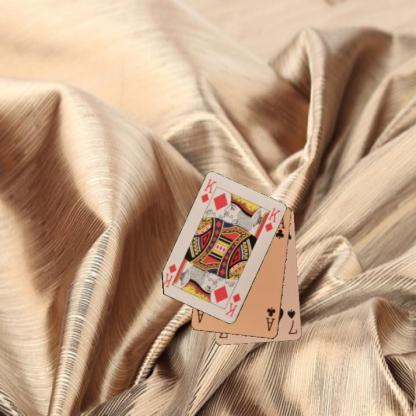7s: (285, 306, 299, 336)
Ac: (263, 305, 277, 332)
Kd: (198, 176, 218, 205), (223, 291, 242, 319)
